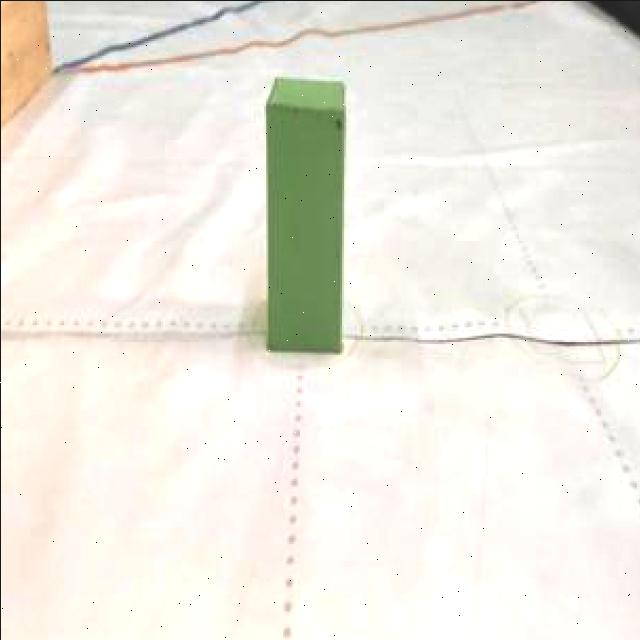greenbox: (264, 74, 346, 350)
